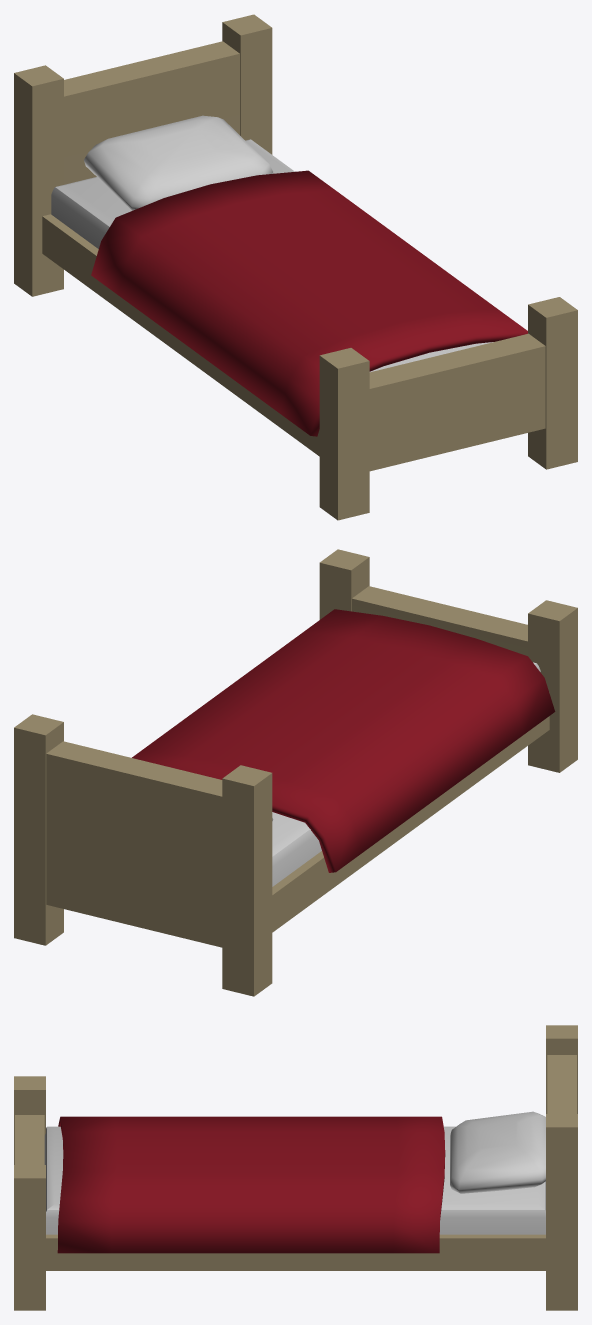
File: bed.fbx
3 views of the same model, one above another, from view 1: azimuth 30°, elevation 25°; view 2: azimuth 150°, elevation 25°; view 3: azimuth 270°, elevation 25° (orthographic). The views are drawn at different scales.
Visible parts, largest first — view 1: Plane, Cube.032, Cube.034, Cube.035, Cube.036, Cube.031; view 2: Plane, Cube.032, Cube.035, Cube.034, Cube.031; view 3: Plane, Cube.032, Cube.035, Cube.036, Cube.031, Cube.034.
Boxes of the visible parts, left/top/right/bottom form: Plane: left=91, top=170, right=527, bottom=436; Cube.032: left=42, top=41, right=545, bottom=471; Cube.034: left=319, top=297, right=577, bottom=520; Cube.035: left=14, top=14, right=272, bottom=296; Cube.036: left=84, top=115, right=272, bottom=210; Cube.031: left=51, top=139, right=493, bottom=372; Plane: left=132, top=609, right=555, bottom=872; Cube.032: left=46, top=586, right=549, bottom=947; Cube.035: left=14, top=714, right=272, bottom=996; Cube.034: left=319, top=549, right=577, bottom=772; Cube.031: left=272, top=662, right=540, bottom=886; Plane: left=57, top=1116, right=445, bottom=1253; Cube.032: left=15, top=1055, right=576, bottom=1270; Cube.035: left=546, top=1025, right=577, bottom=1310; Cube.036: left=450, top=1111, right=545, bottom=1193; Cube.031: left=44, top=1126, right=545, bottom=1234; Cube.034: left=14, top=1076, right=45, bottom=1310.
Bounding box in the file's own units: 97.69 × 80.19 × 224.
